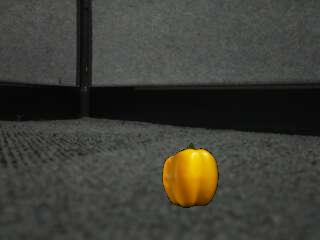Capsicum: (161, 141, 221, 209)
